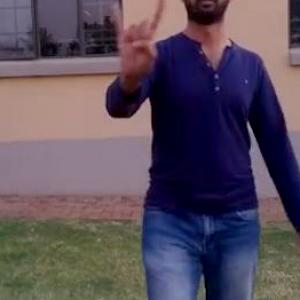takeoff-hand: (104, 0, 167, 83)
